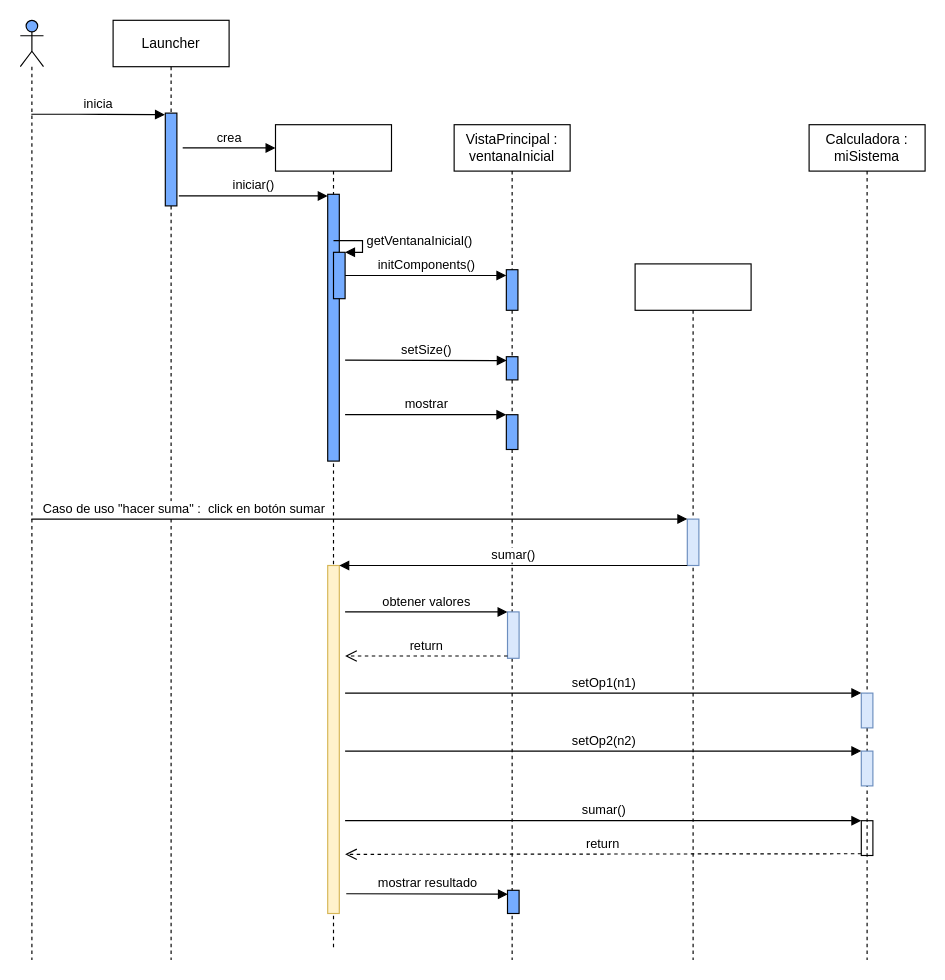
The diagram is 945 pixels wide and 980 high, and some of its shapes have lost their labels. Each missing label, with the box of its shape:
Controlador : control: (634, 263, 751, 960)
Modelo : miApp: (274, 124, 392, 948)
